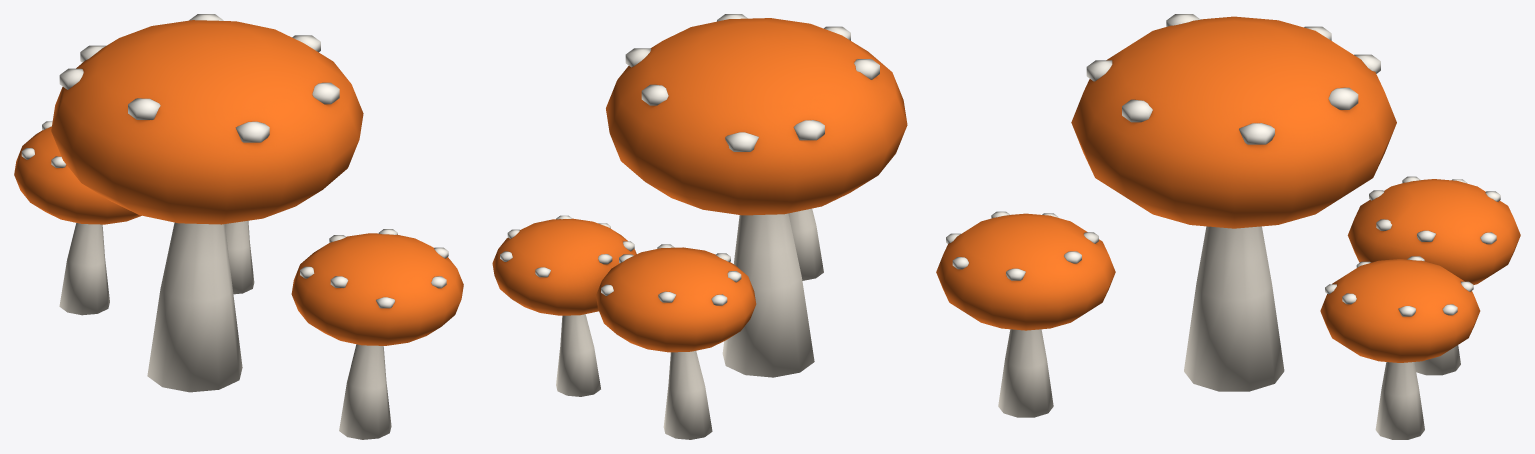
The model's file is Env_Mushroom_2.glb.
3 views of the same model, side by side, from view 1: azimuth 30°, elevation 25°; view 2: azimuth 150°, elevation 25°; view 3: azimuth 270°, elevation 25° (orthographic). The views are drawn at different scales.
Parts seen in each view (by area): view 1: Env_Mushroom_2.001; view 2: Env_Mushroom_2.001; view 3: Env_Mushroom_2.001.
Part boxes in pixels (x1=…): Env_Mushroom_2.001: x1=14, y1=14, x2=463, y2=439; Env_Mushroom_2.001: x1=492, y1=14, x2=907, y2=439; Env_Mushroom_2.001: x1=936, y1=14, x2=1520, y2=439.
Bounding box in the file's own units: 0.9142 × 0.888 × 1.4.
1 material, 1 textured.
